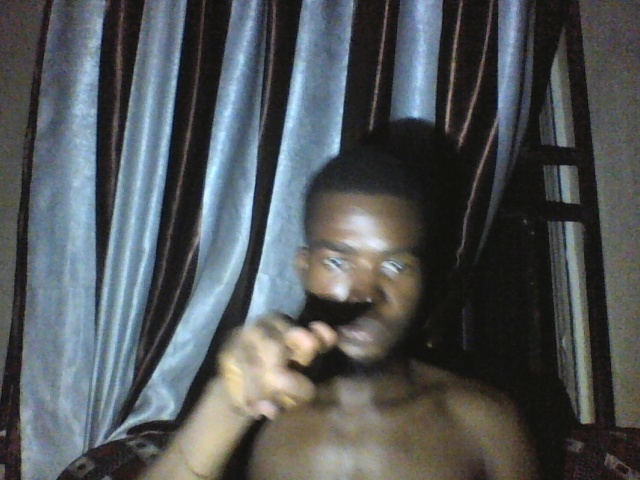no: (213, 308, 343, 427)
